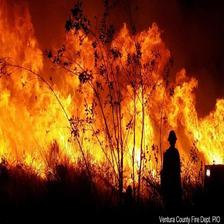fire: (2, 19, 224, 162)
